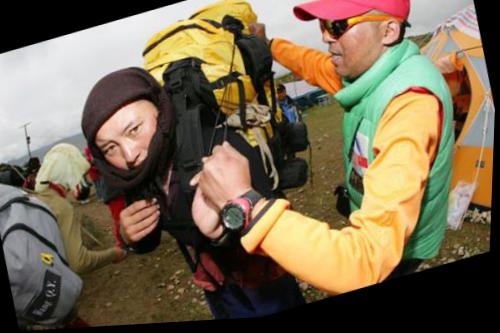NONE: (316, 5, 389, 89)
WRONG: (95, 103, 182, 195)
